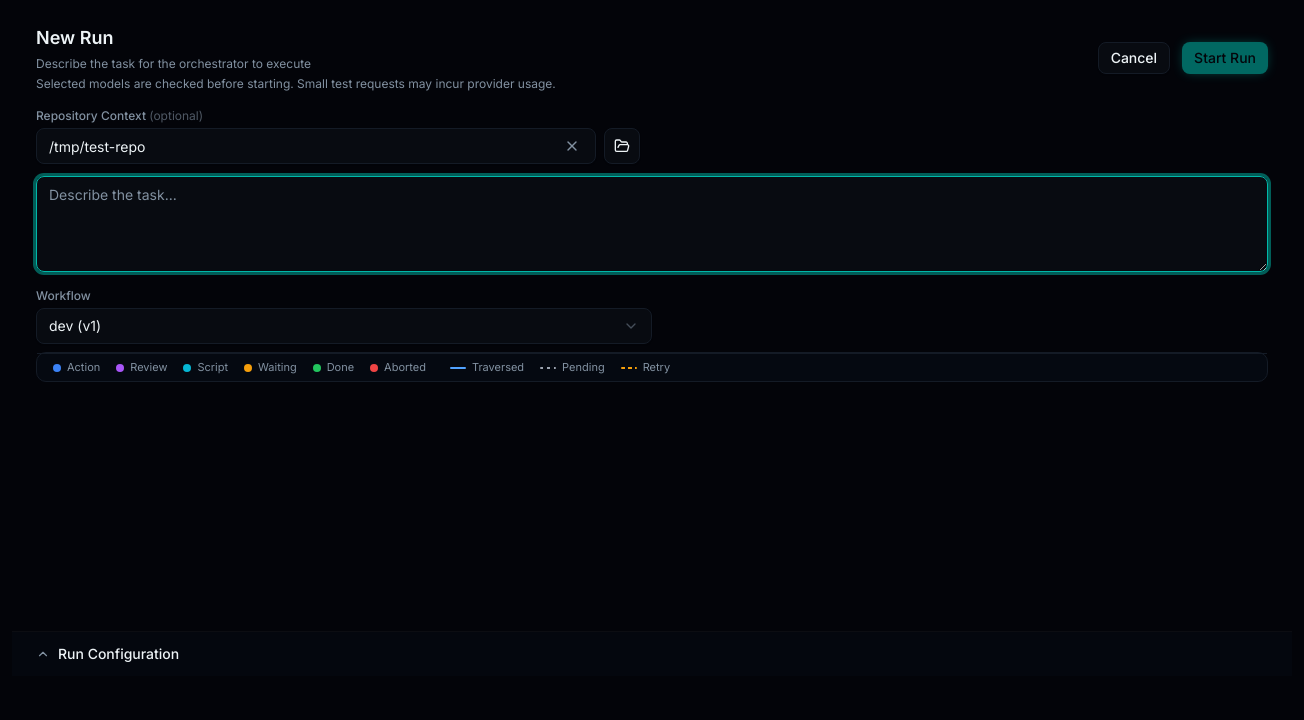
Test case: NewRunPage › settings panel toggle
The image size is (1304, 720).
Expected: the text "Run Configuration" is shown, 58,644 -> 179,664
Click the button "Run Configuration".
click(119, 654)  # box 12,632 -> 1292,676
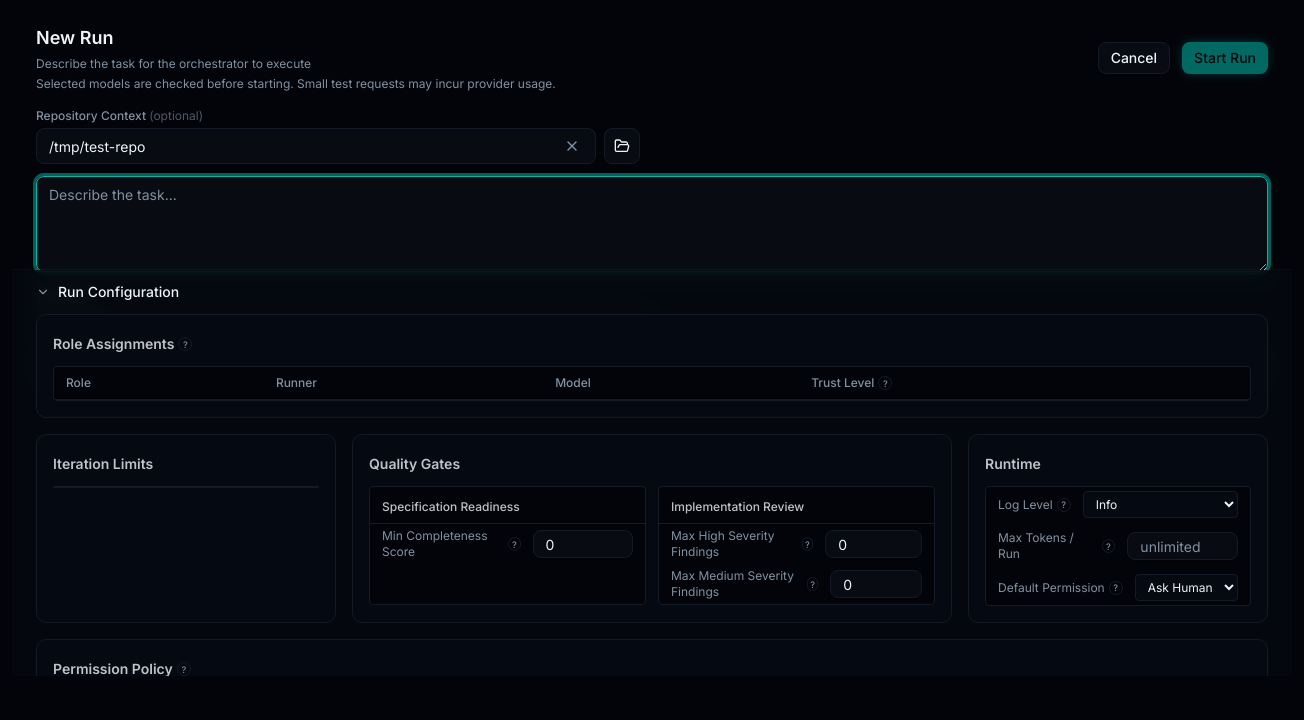
Now the heading "Iteration Limits" is shown, box 53,454 -> 153,474
